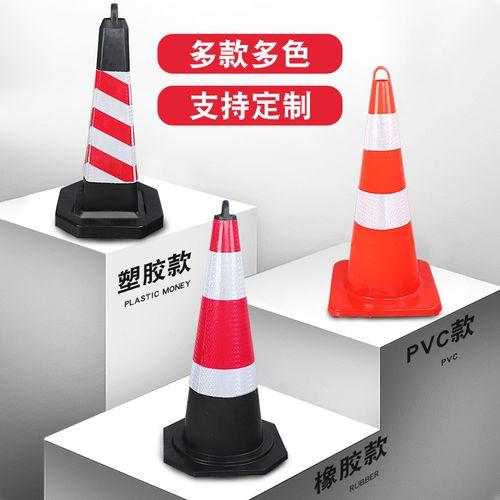sign: (175, 195, 284, 481), (337, 66, 443, 325), (60, 1, 157, 237)
